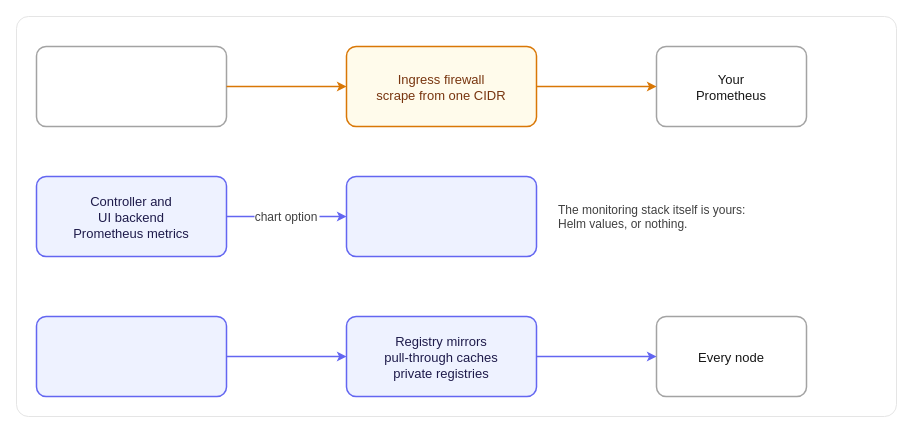
The diagram is 913 pixels wide and 433 high, and some of its shapes have lost their labels. Each missing label, with the centre of its shape:
ServiceMonitors alert rules Grafana dashboards: the point at 441,216
System layer mirrors, installer image, Image Factory: the point at 131,356
Talos control plane controller-manager scheduler, etcd: the point at 131,86
